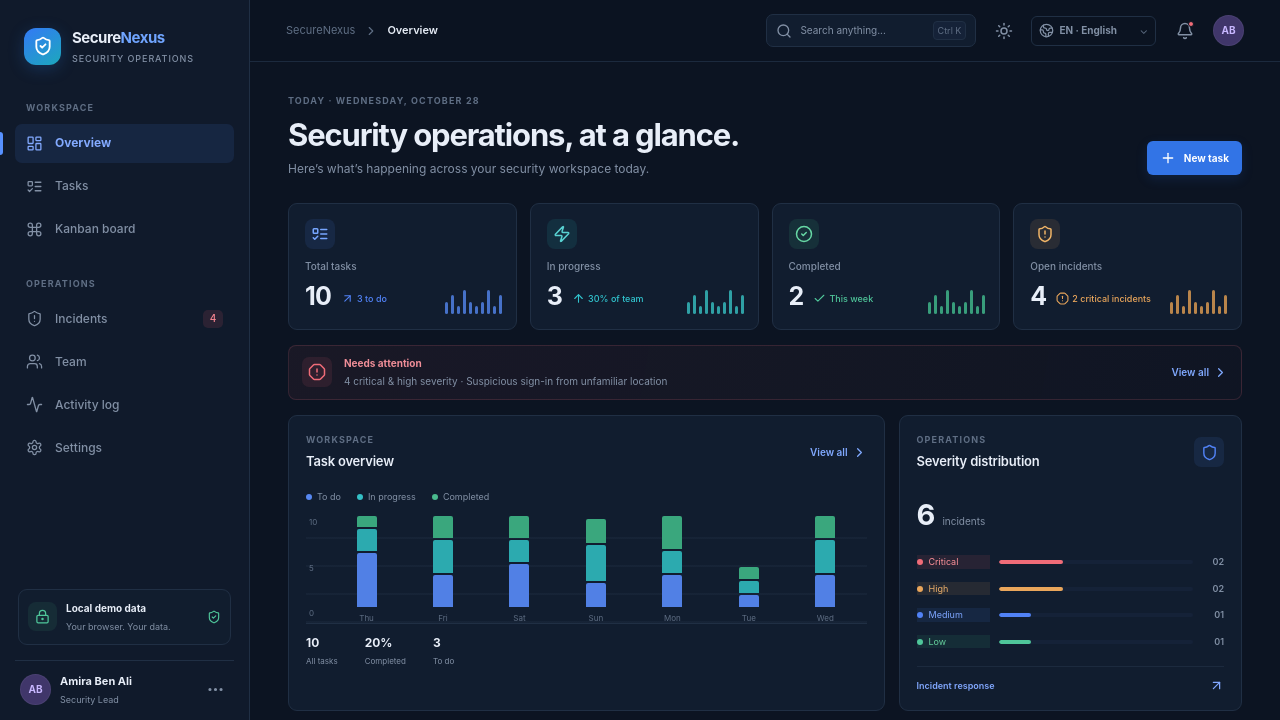
Scenario: switches to Arabic and applies an RTL document direction
Step 1. Select "AR · العربية" in the dropdown named "Language" → x=1097, y=30, box [1059,17,1134,44]
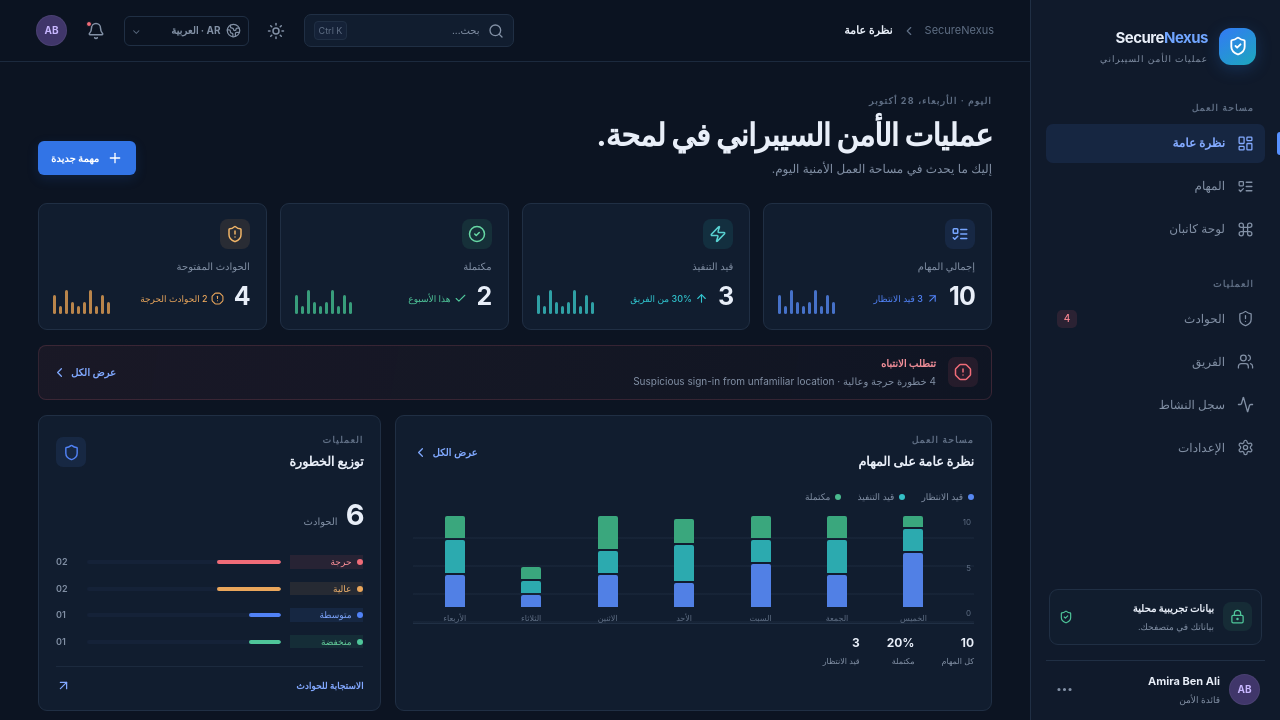
Expected: the heading "عمليات الأمن السيبراني في لمحة." is shown, [596,116,992,153]
